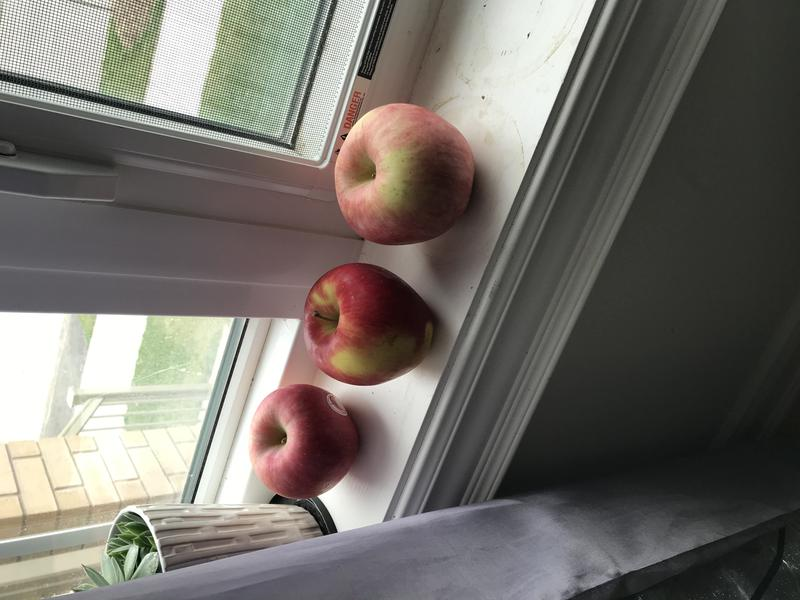red_apple: (328, 100, 483, 253), (293, 263, 449, 390), (241, 378, 371, 507)
